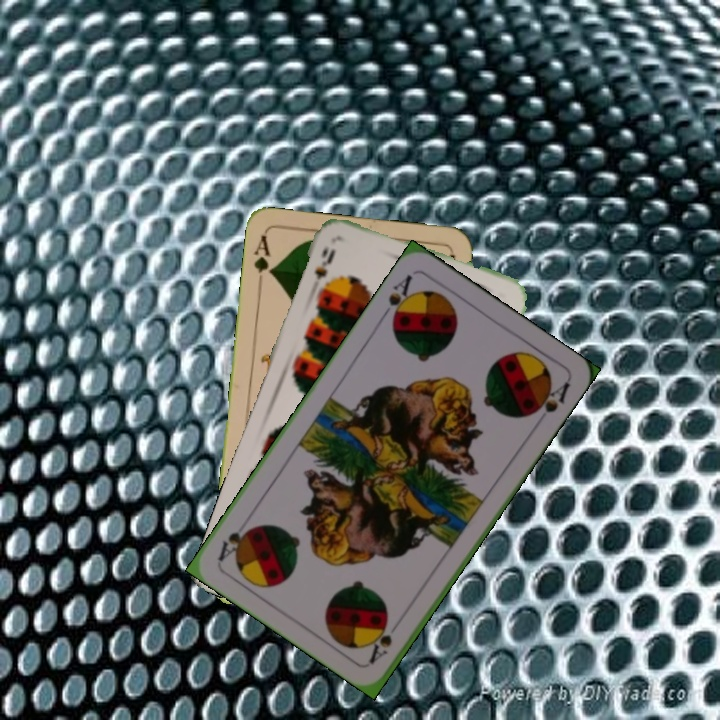GA: (250, 231, 276, 291)
S9: (310, 244, 339, 296)
SA: (377, 270, 417, 328), (364, 619, 395, 666)
